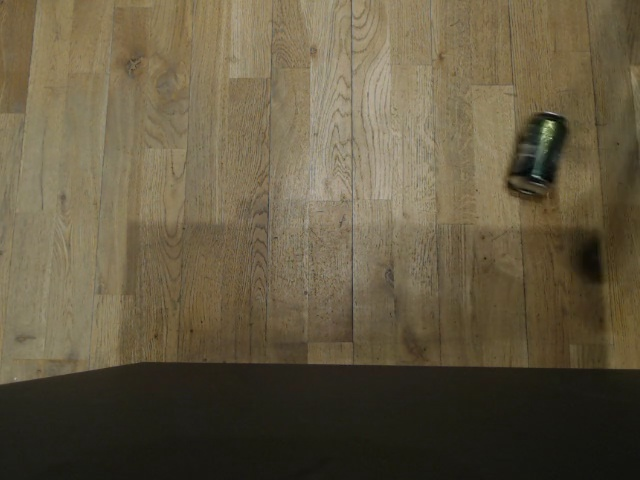beer: (506, 108, 567, 198)
